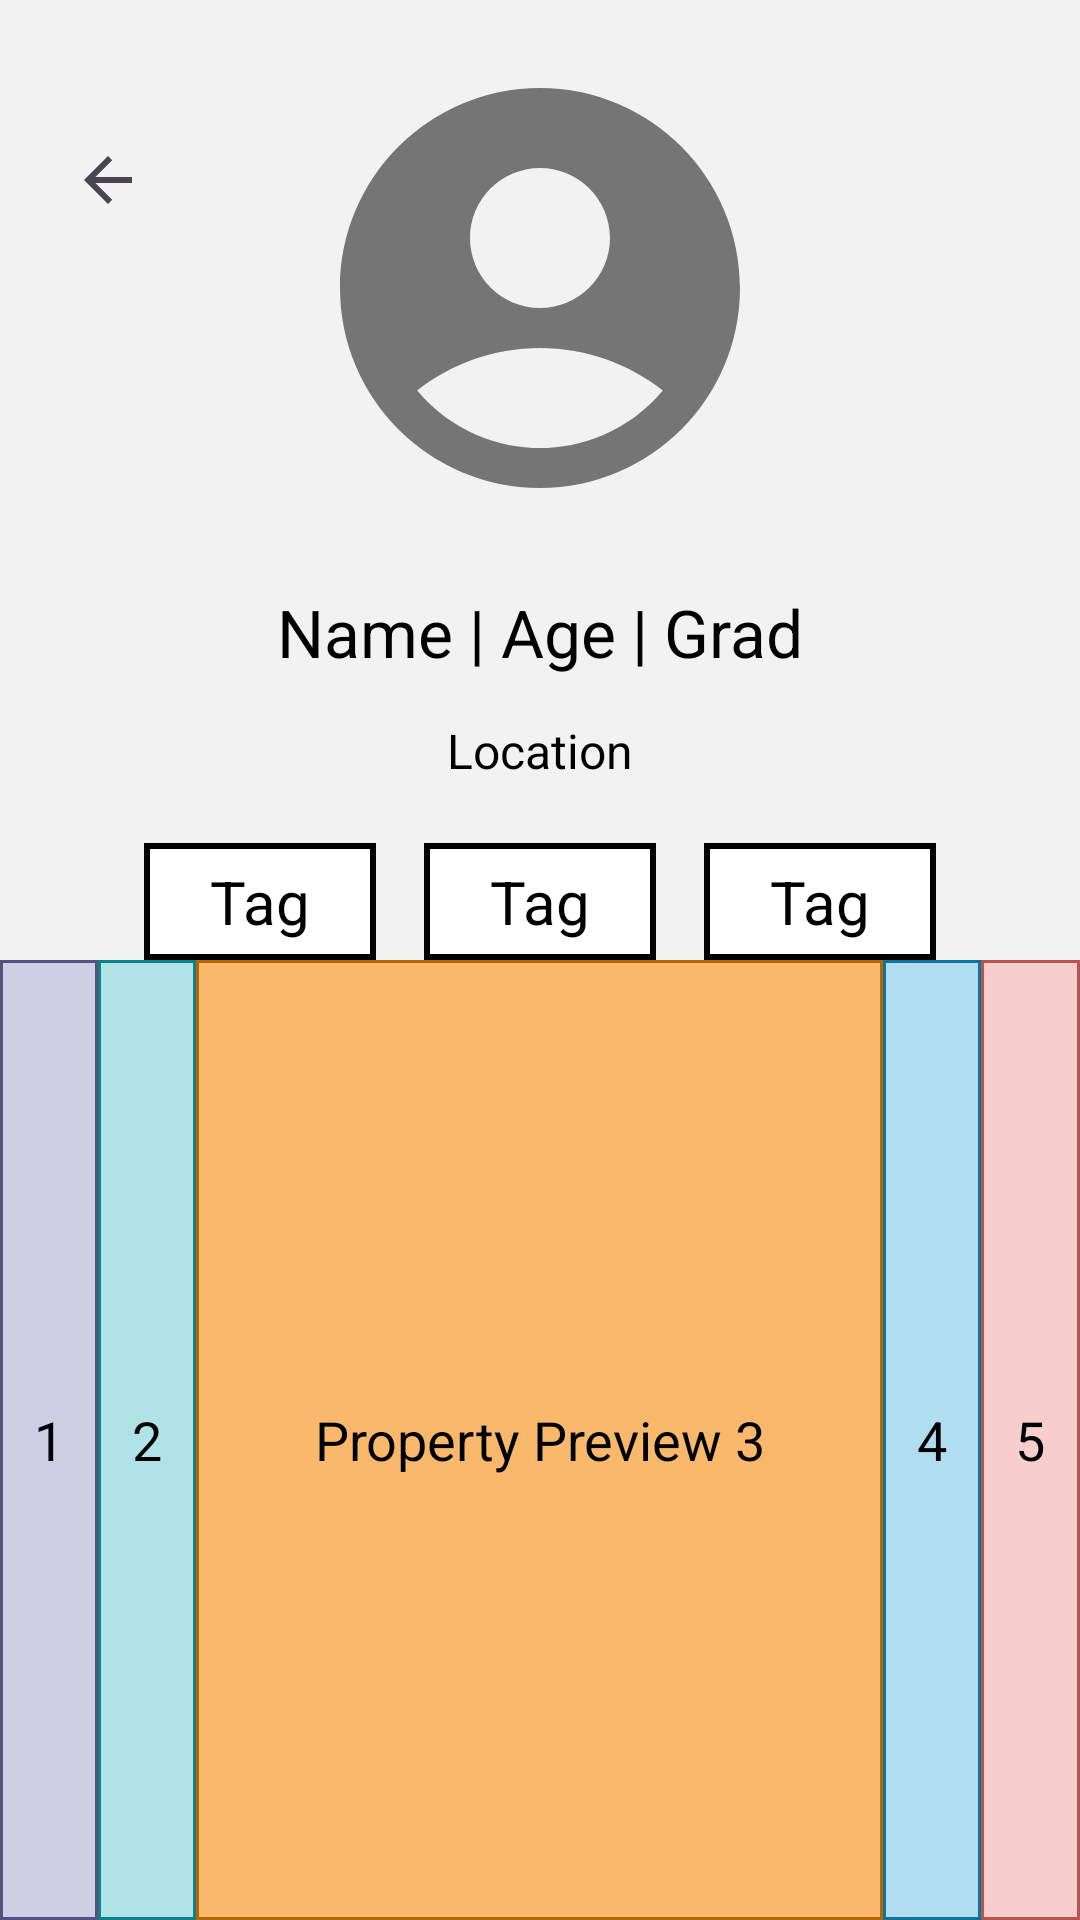

Icon bounding boxes for this 1080x1920 phone screenshot, format {"x1": x1, "y1": y1, "x2": x2, "y2": y2}:
Back: {"x1": 84, "y1": 156, "x2": 132, "y2": 204}
